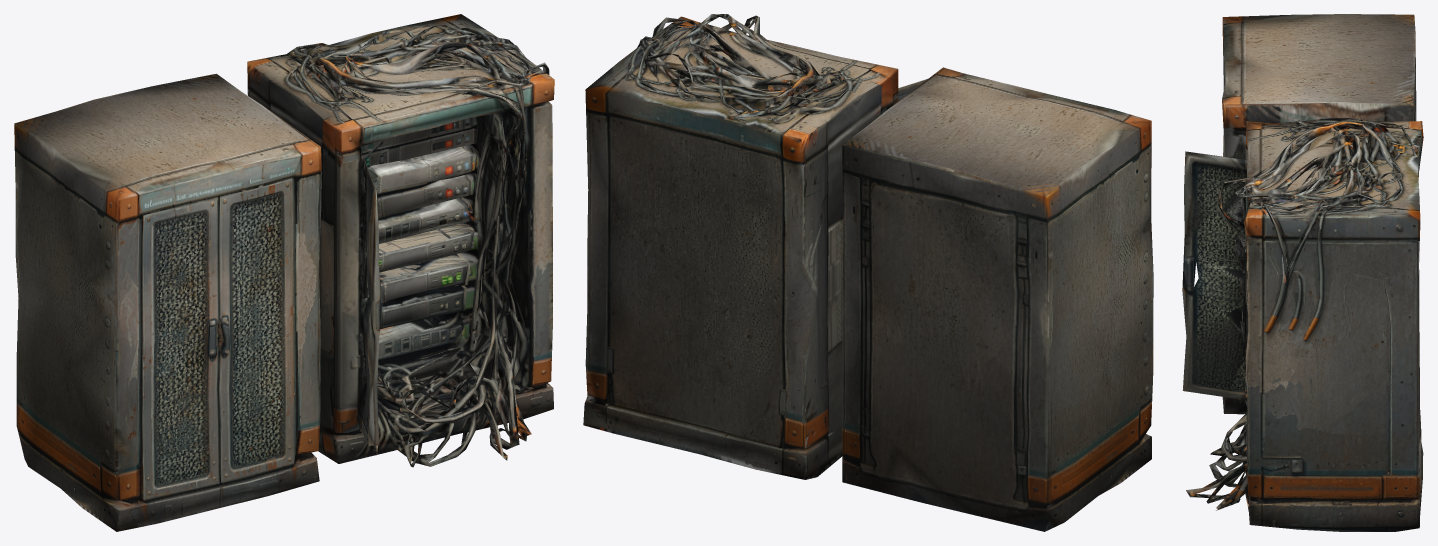
The model's file is EX_Lab_ServerRack.fbx.
3 renders of one model, left to right at view 1: azimuth 30°, elevation 25°; view 2: azimuth 150°, elevation 25°; view 3: azimuth 270°, elevation 25°, orthographic. The views are drawn at different scales.
Visible parts, largest first — view 1: texture_mapping; view 2: texture_mapping; view 3: texture_mapping.
Part boxes in pixels (x1,y1,x2,y2): texture_mapping: [14, 14, 554, 531]; texture_mapping: [583, 14, 1153, 531]; texture_mapping: [1182, 14, 1423, 531].
Size of the model in its own units: 0.9965 by 0.4816 by 0.7528.
1 material, 1 textured.
